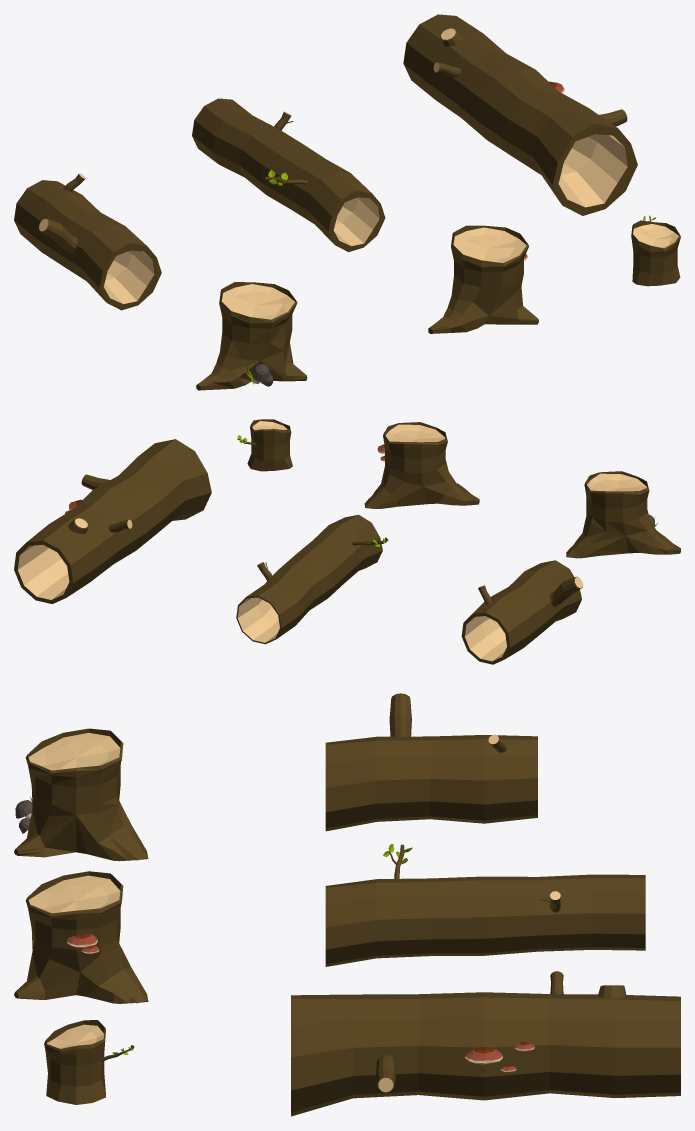
The model's file is TreeStumps6pcs.fbx.
3 renders of one model, top to bottom at view 1: azimuth 30°, elevation 25°; view 2: azimuth 150°, elevation 25°; view 3: azimuth 270°, elevation 25°, orthographic. The views are drawn at different scales.
Visible parts, largest first — view 1: BigLogMushroom, MediemLog, SmallLog, TreeStrumpMushroom2, TreeStumpMushroom, SmalTreeStump; view 2: BigLogMushroom, MediemLog, SmallLog, TreeStumpMushroom, TreeStrumpMushroom2, SmalTreeStump; view 3: BigLogMushroom, MediemLog, SmallLog, TreeStrumpMushroom2, TreeStumpMushroom, SmalTreeStump.
Part boxes in pixels (x1,y1,x2,y2): BigLogMushroom: (403, 14, 637, 215); MediemLog: (192, 98, 385, 252); SmallLog: (14, 173, 161, 310); TreeStrumpMushroom2: (196, 282, 307, 390); TreeStumpMushroom: (428, 225, 538, 333); SmalTreeStump: (631, 215, 680, 286); BigLogMushroom: (14, 439, 211, 603); MediemLog: (236, 514, 388, 644); SmallLog: (461, 560, 582, 664); TreeStumpMushroom: (364, 422, 479, 508); TreeStrumpMushroom2: (566, 471, 680, 558); SmalTreeStump: (237, 419, 292, 471); BigLogMushroom: (291, 971, 680, 1116); MediemLog: (325, 844, 645, 966); SmallLog: (325, 693, 537, 831); TreeStrumpMushroom2: (14, 728, 148, 861); TreeStumpMushroom: (14, 871, 148, 1003); SmalTreeStump: (44, 1020, 134, 1104).
Bounding box in the file's own units: 18.8 × 2.91 × 14.86.
